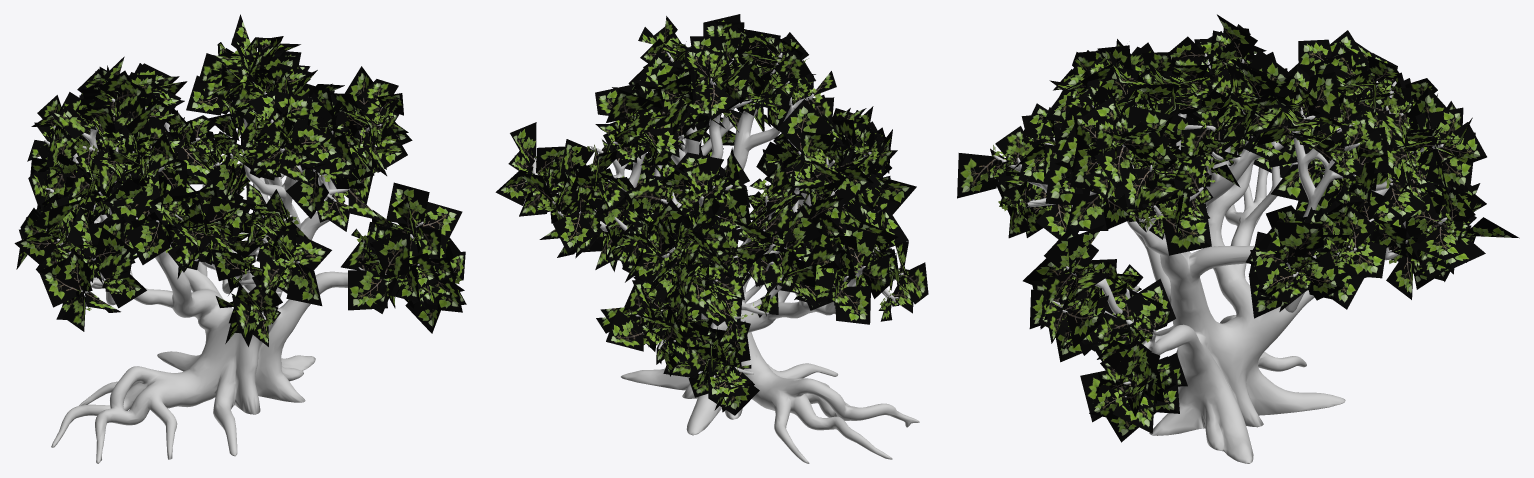
File: SacredTree2.fbx
3 renders of one model, left to right at view 1: azimuth 30°, elevation 25°; view 2: azimuth 150°, elevation 25°; view 3: azimuth 270°, elevation 25°, orthographic. The views are drawn at different scales.
Parts seen in each view (by area): view 1: Leaves, SacredTree; view 2: Leaves, SacredTree; view 3: Leaves, SacredTree.
Part boxes in pixels (<box>): Leaves: <box>14,14,466,346</box>; SacredTree: <box>44,91,423,463</box>; Leaves: <box>495,14,928,415</box>; SacredTree: <box>532,48,919,463</box>; Leaves: <box>957,14,1519,442</box>; SacredTree: <box>993,53,1447,463</box>.
Size of the model in its own units: 1044 by 905 by 1136.
